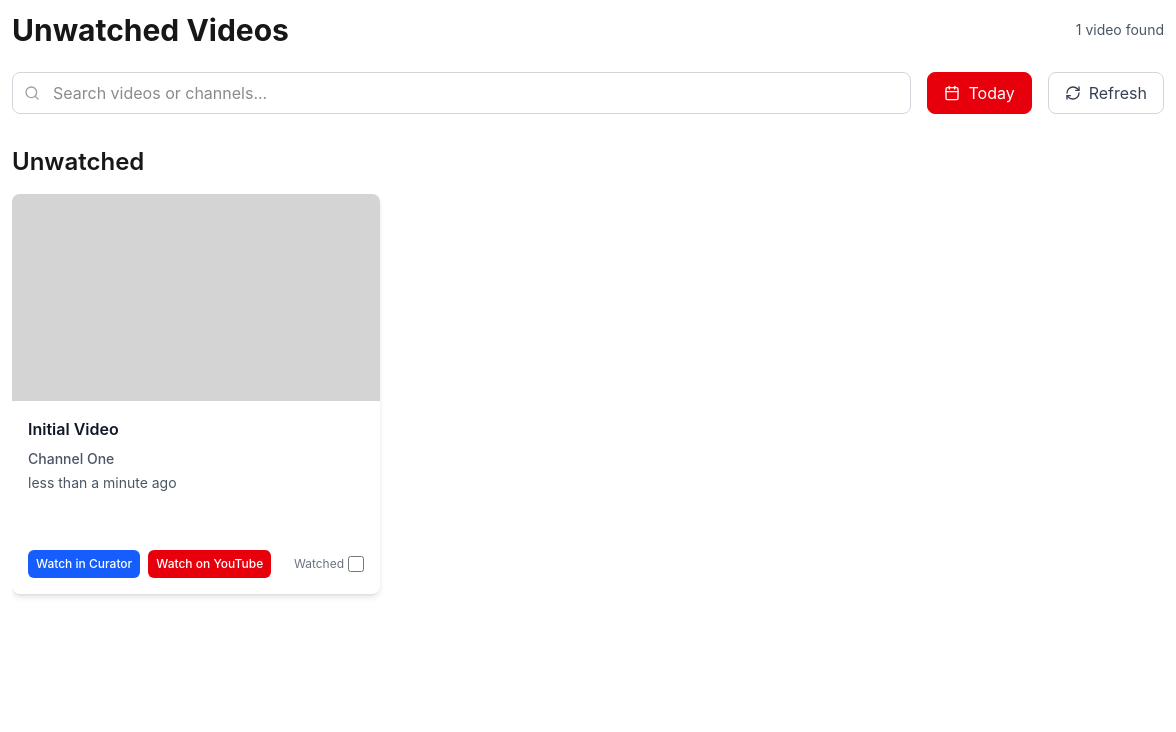
Test: VideosPage › handles refresh button click and updates videos
Check: the heading "Initial Video" is shown, box [28,419,119,439]
Check: the text "Refreshed Video" is not shown
Step 1. Click the button "Refresh" → (1106, 93), box [1048,72,1164,114]
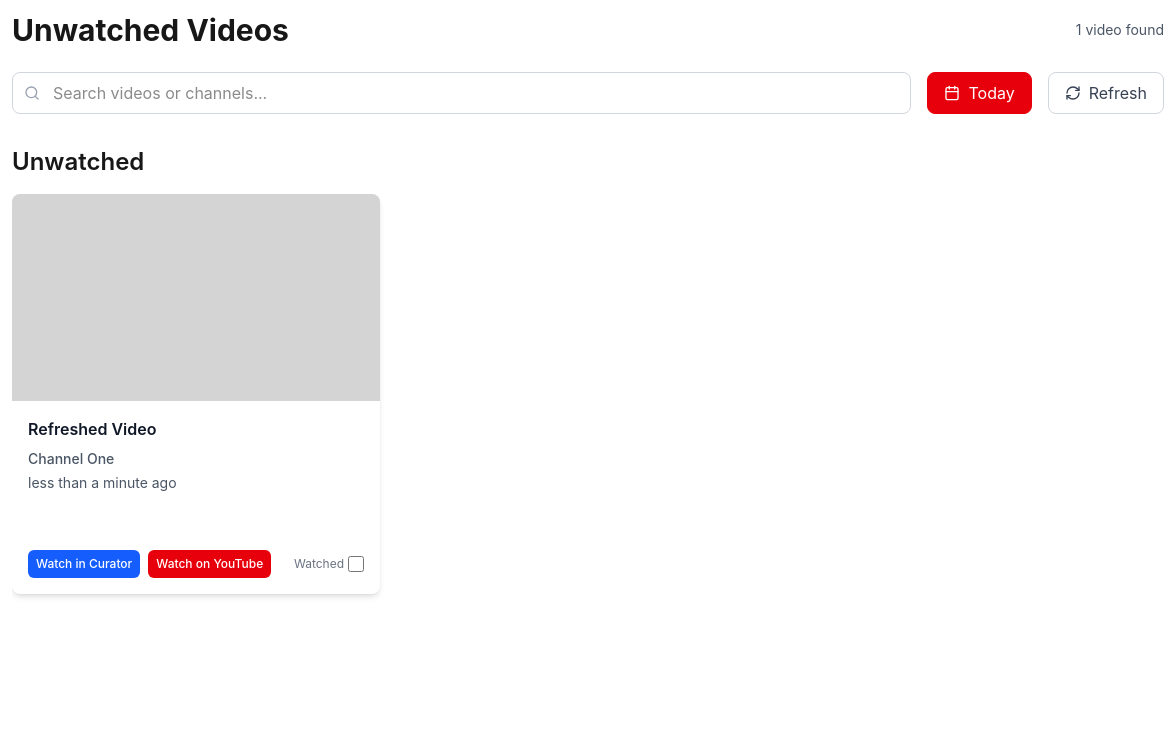
Check: the heading "Refreshed Video" is shown, box [28,419,156,439]
Check: the link "Initial Video" is gone
